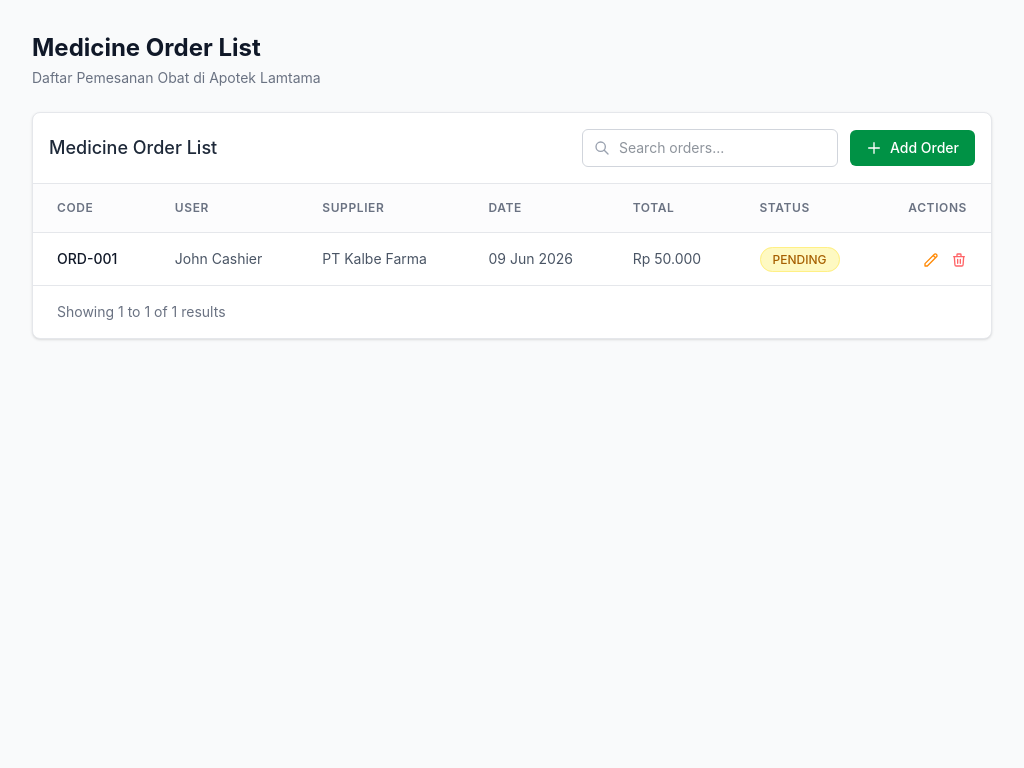
Test: MedicineOrdersView.vue Unit Tests › opens order modal on Add Order click and closes on cancel
Expected: the text "Add New Order" is not shown
Click the button "Add Order" at (912, 148), box [850,130,975,166]
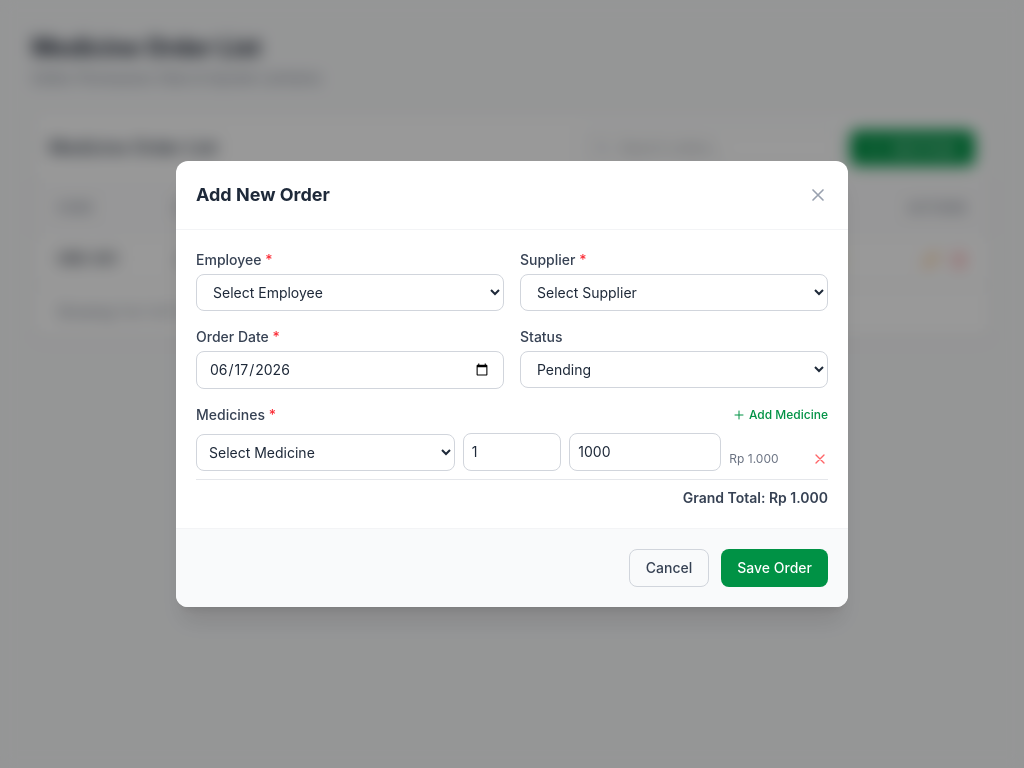
Expected: the text "Add New Order" is shown, [196,181,330,209]
Expected: the button "Cancel" is shown
Click the button "Cancel" at (669, 568), box [629,549,709,587]
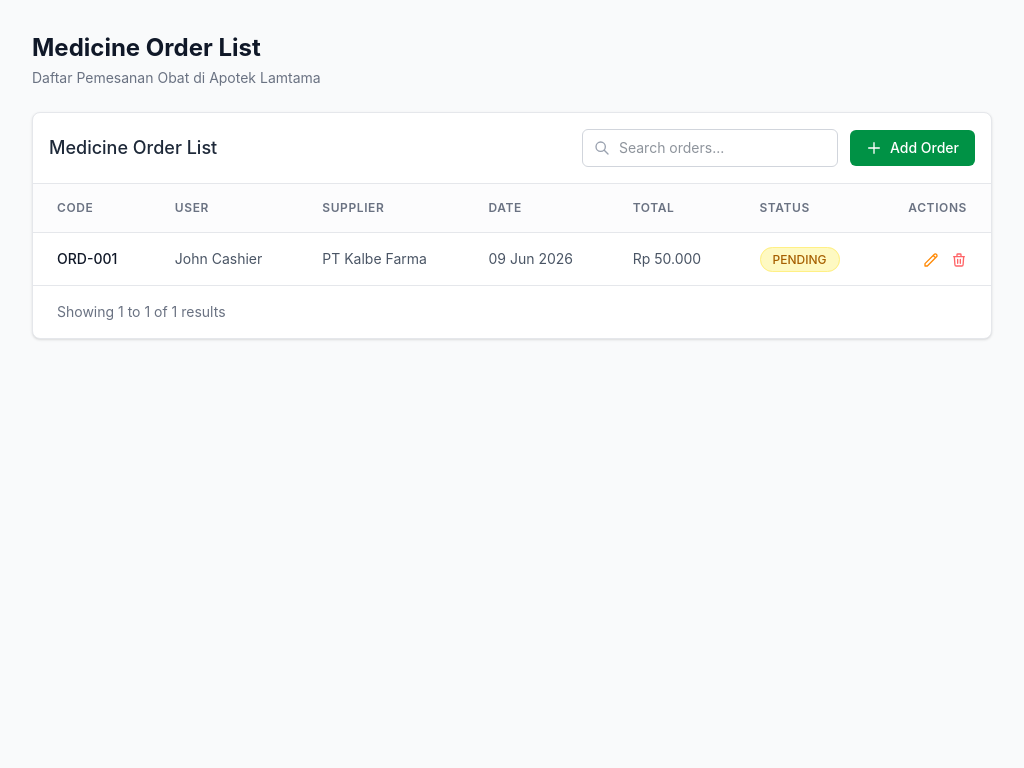
Expected: the text "Add New Order" is gone
